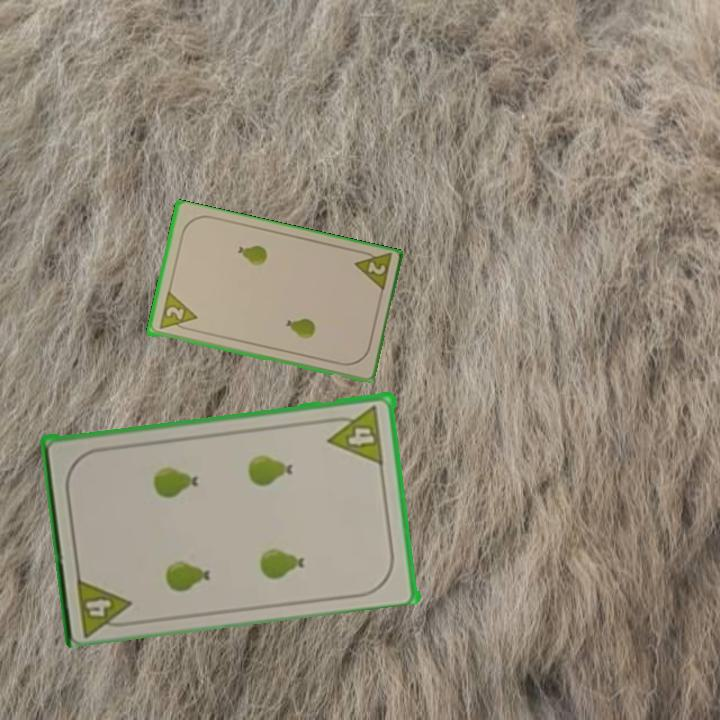2p: (350, 247, 394, 296), (155, 290, 199, 335)
4p: (73, 571, 137, 636), (324, 401, 387, 466)
